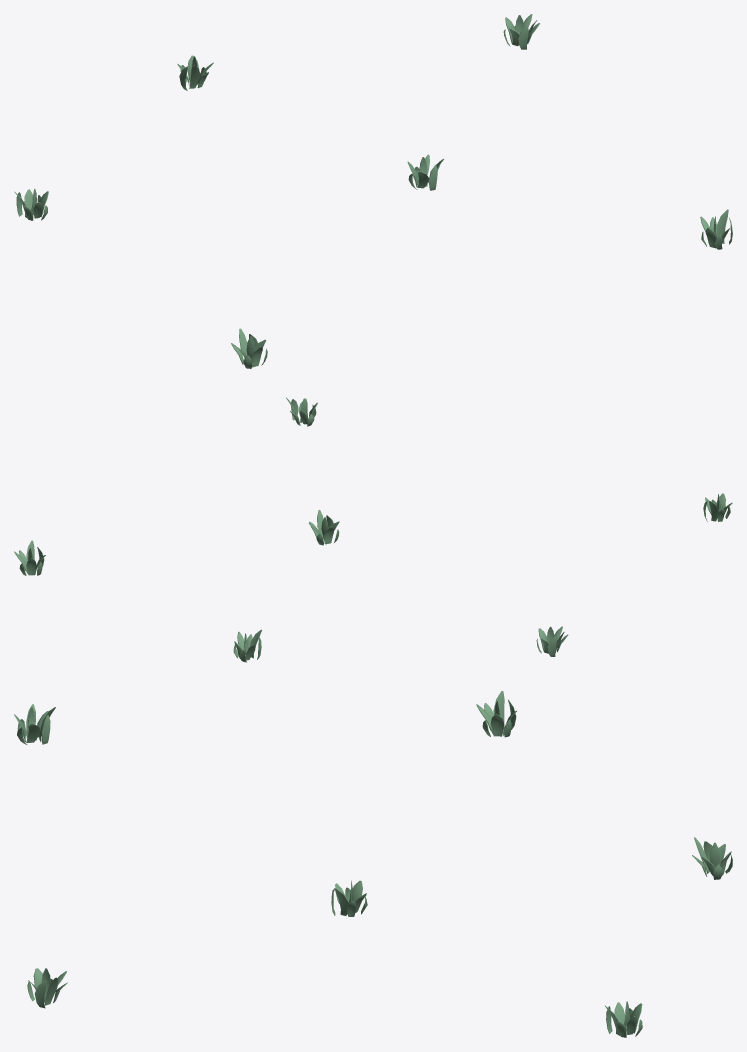
Rendered from a_z3_grass_s_many.fbx.
3 views of the same model, one above another, from view 1: azimuth 30°, elevation 25°; view 2: azimuth 150°, elevation 25°; view 3: azimuth 270°, elevation 25° (orthographic). The views are drawn at different scales.
Visible parts, largest first — view 1: a_z3_grass_s_many; view 2: a_z3_grass_s_many; view 3: a_z3_grass_s_many.
Part boxes in pixels (box(x1,y1,x2,y2)): a_z3_grass_s_many: box(14, 14, 732, 368); a_z3_grass_s_many: box(14, 397, 732, 662); a_z3_grass_s_many: box(14, 691, 732, 1037).
Size of the model in its own units: 708 by 33.71 by 672.
